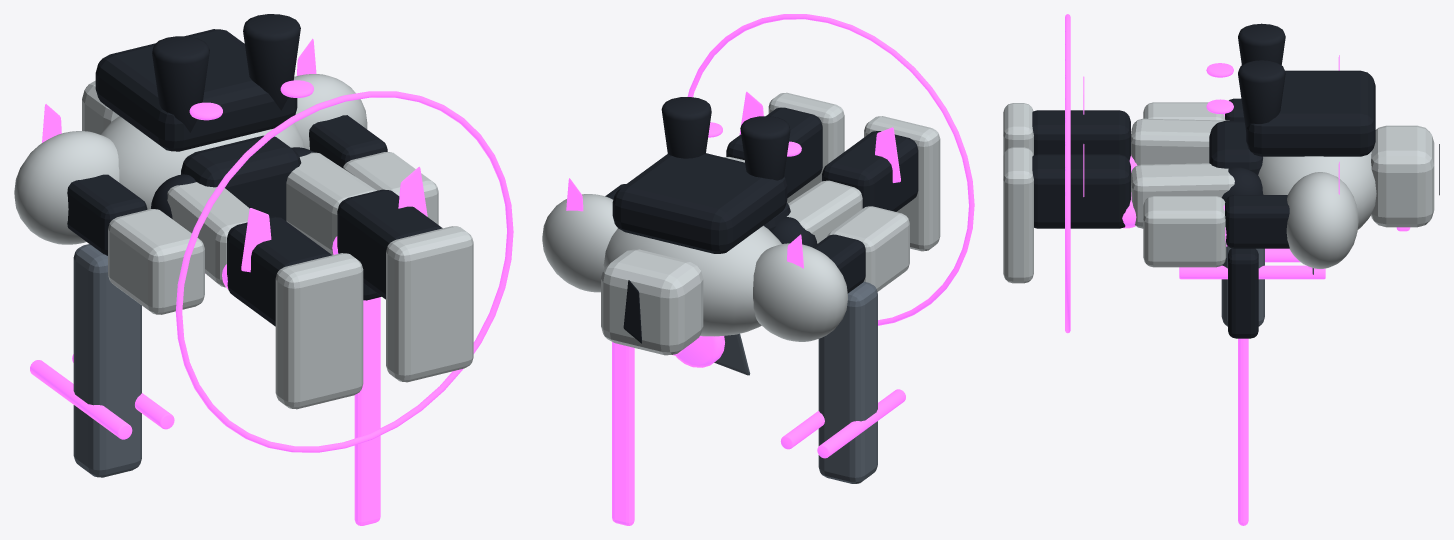
Rendered from blade_player.glb.
The picture shows the model from 3 angles, left to right: view 1: azimuth 30°, elevation 25°; view 2: azimuth 150°, elevation 25°; view 3: azimuth 270°, elevation 25°; orthographic projection. The views are drawn at different scales.
Parts seen in each view (by area): view 1: pulse-body, foot, foot.001, backpack, forearm, shield-ring, shoulder-shell, waist, lower-leg.001, lower-leg, ink-energy-blade, upper-leg.001 (+14 smaller); view 2: backpack, pulse-body, head, shoulder-shell, torso, shoulder-shell.001, lower-leg, ink-energy-blade, foot, forearm, shield-ring, lower-leg.001 (+12 smaller); view 3: backpack, lower-leg.001, head, forearm.001, shoulder-shell.001, lower-leg, foot.001, torso, upper-leg, upper-leg.001, upper-arm.001, blade-hilt (+10 smaller).
Part boxes in pixels (bbox=[...]): pulse-body: bbox=[73, 244, 141, 477]; foot: bbox=[275, 253, 363, 409]; foot.001: bbox=[386, 226, 473, 382]; backpack: bbox=[95, 29, 297, 151]; forearm: bbox=[108, 209, 204, 314]; shield-ring: bbox=[175, 91, 513, 452]; shoulder-shell: bbox=[14, 131, 119, 244]; waist: bbox=[181, 135, 301, 221]; lower-leg.001: bbox=[337, 189, 442, 299]; lower-leg: bbox=[227, 216, 331, 326]; ink-energy-blade: bbox=[354, 297, 380, 525]; upper-leg.001: bbox=[286, 152, 376, 255]; backpack: bbox=[612, 153, 787, 253]; pulse-body: bbox=[818, 281, 877, 483]; head: bbox=[601, 249, 703, 355]; shoulder-shell: bbox=[753, 243, 847, 341]; torso: bbox=[603, 225, 781, 336]; shoulder-shell.001: bbox=[542, 194, 617, 292]; lower-leg: bbox=[822, 131, 918, 211]; ink-energy-blade: bbox=[612, 342, 634, 525]; foot: bbox=[864, 116, 940, 251]; forearm: bbox=[827, 206, 909, 291]; shield-ring: bbox=[687, 14, 974, 325]; lower-leg.001: bbox=[726, 107, 822, 197]; backpack: bbox=[1246, 70, 1375, 156]; lower-leg.001: bbox=[1032, 154, 1130, 228]; head: bbox=[1371, 125, 1434, 227]; forearm.001: bbox=[1143, 196, 1226, 267]; shoulder-shell.001: bbox=[1286, 172, 1358, 268]; lower-leg: bbox=[1032, 110, 1130, 160]; foot.001: bbox=[1003, 147, 1033, 283]; torso: bbox=[1258, 151, 1376, 229]; upper-leg: bbox=[1131, 118, 1229, 165]; upper-leg.001: bbox=[1131, 163, 1234, 228]; upper-arm.001: bbox=[1225, 195, 1289, 248]; blade-hilt: bbox=[1228, 248, 1258, 338].
Bounding box in the file's own units: 2.12 × 3.17 × 2.84.
